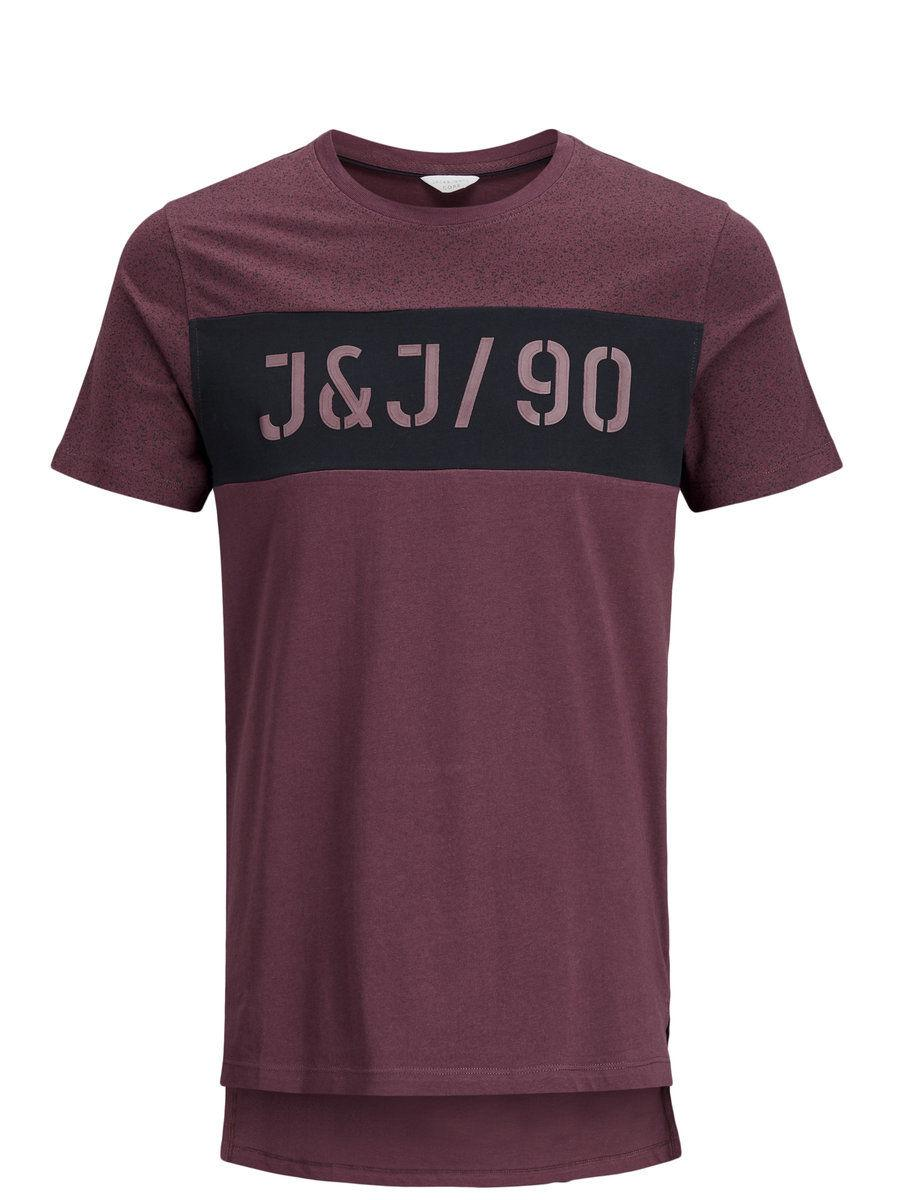teeshirt: (45, 113, 849, 1200)
